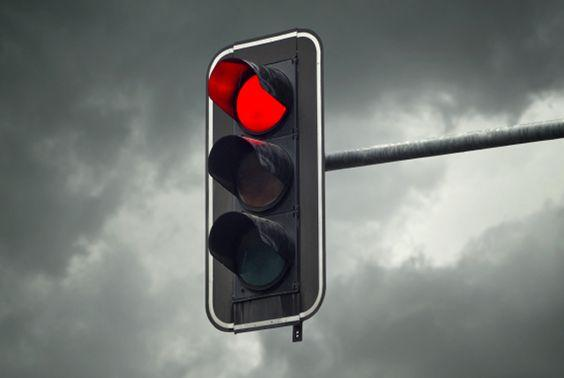red: (201, 29, 325, 325)
